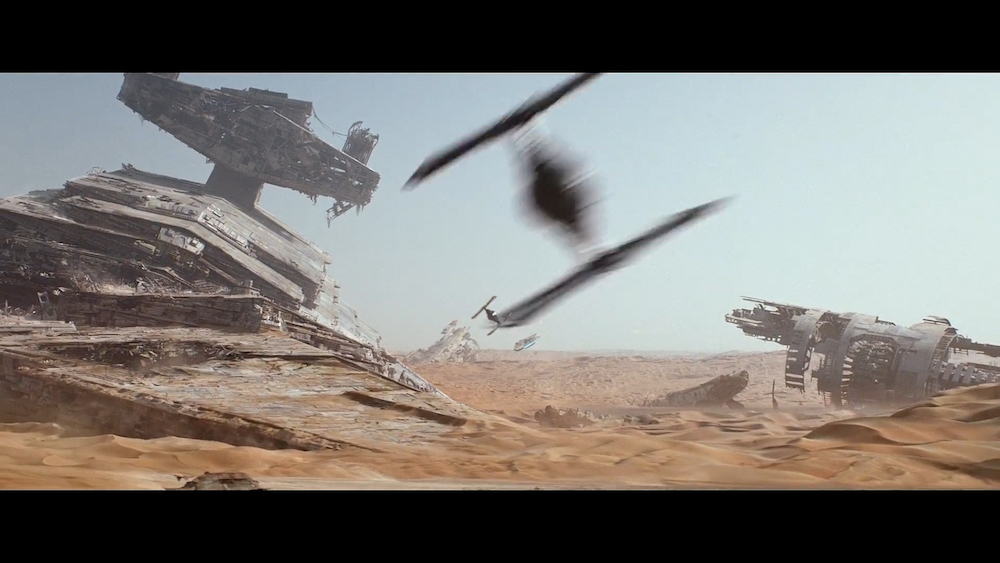Millennium Falcon: (514, 332, 541, 352)
Tie Fighter: (402, 74, 738, 327), (471, 297, 512, 336)
